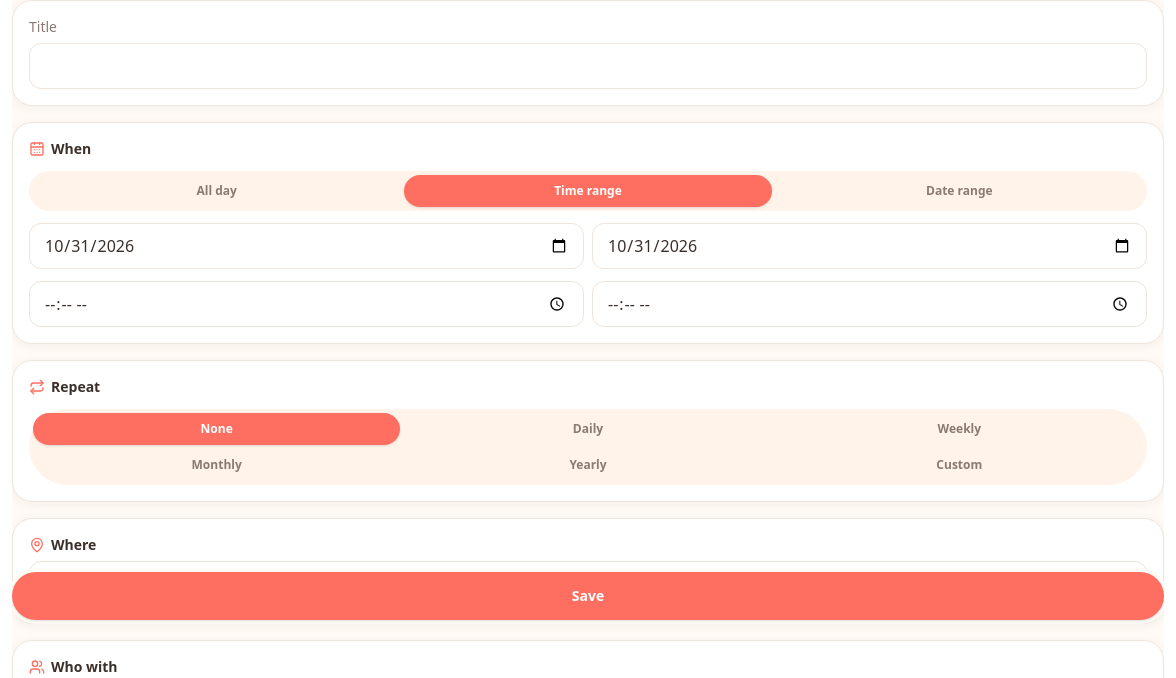
EventForm repeat section › shows an interval + unit input when 'Custom' is picked
Click the radio button labelled "Custom": (959, 464) left=936, top=456, right=982, bottom=473
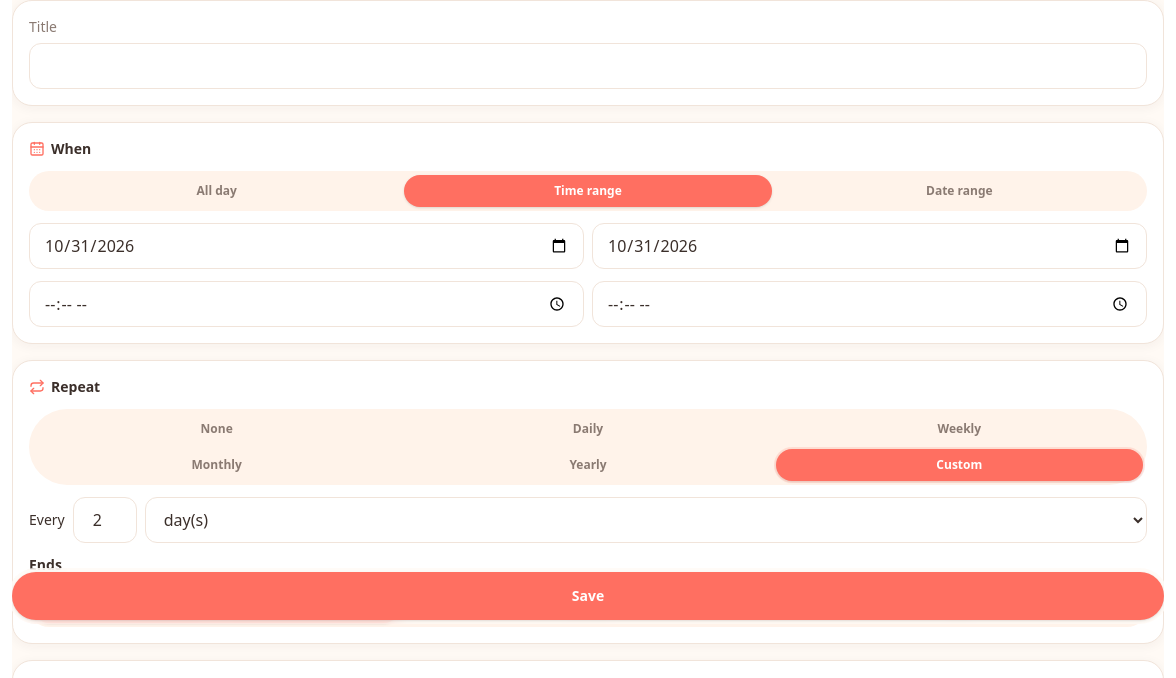
Check: the number field is shown, box left=73, top=497, right=137, bottom=543
Check: the dropdown showing "day(s)" is shown, box left=145, top=497, right=1147, bottom=543
